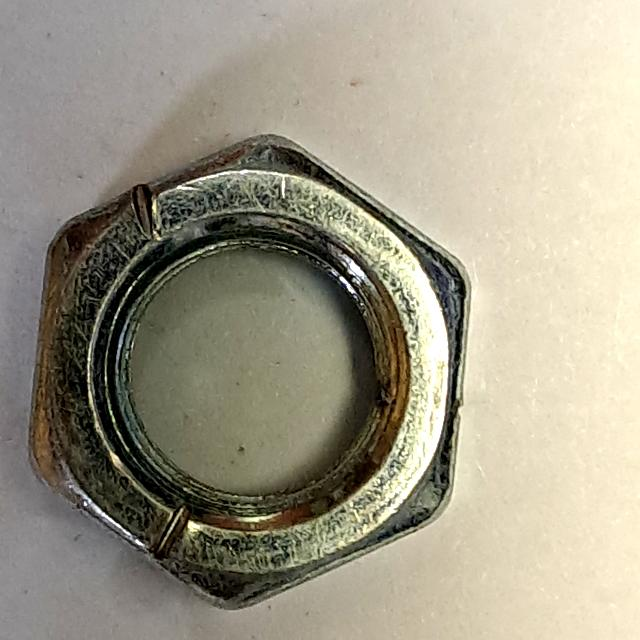Scratches: (17, 123, 485, 623)
